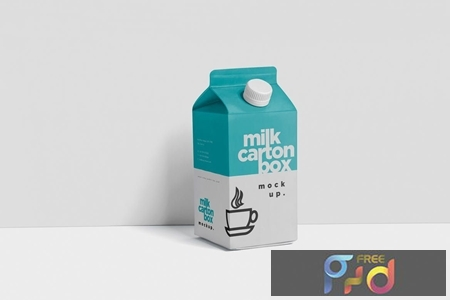carton: (181, 45, 311, 250)
